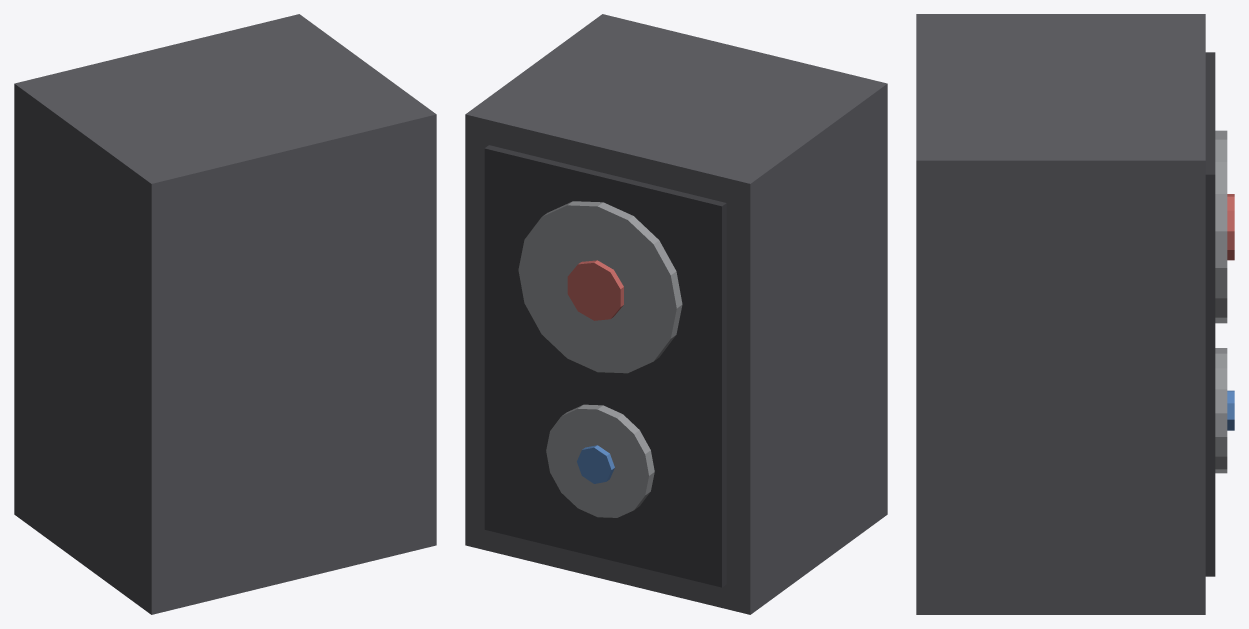
Rendered from elet_caixa_som.glb.
3 renders of one model, left to right at view 1: azimuth 30°, elevation 25°; view 2: azimuth 150°, elevation 25°; view 3: azimuth 270°, elevation 25°, orthographic. The views are drawn at different scales.
Visible parts, largest first — view 1: ELET_CaixaSom_v01; view 2: ELET_CaixaSom_v01; view 3: ELET_CaixaSom_v01.
Part boxes in pixels (<box>): ELET_CaixaSom_v01: <box>14,14,436,614</box>; ELET_CaixaSom_v01: <box>465,14,887,614</box>; ELET_CaixaSom_v01: <box>916,14,1234,614</box>.
Size of the model in its own units: 0.36 by 0.52 by 0.33.
